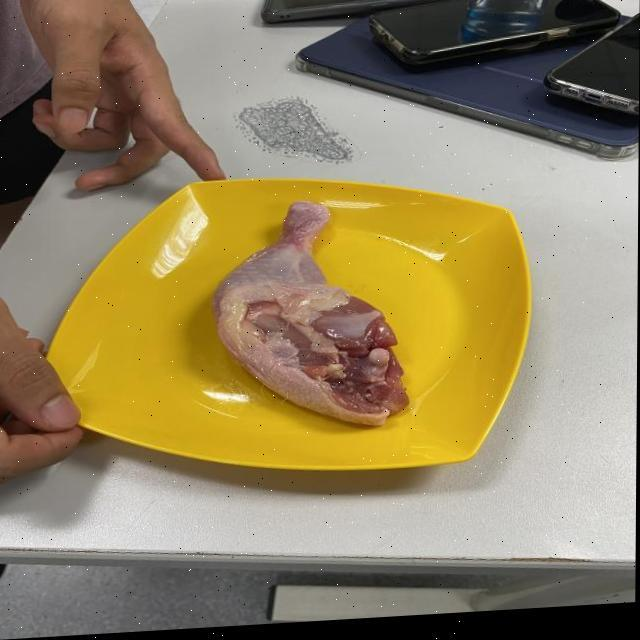quater: (220, 189, 422, 445)
